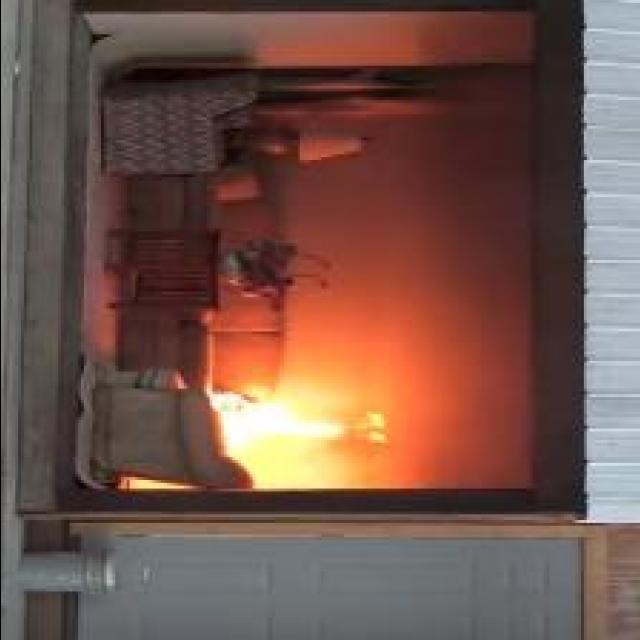Fire: (214, 396, 386, 458)
